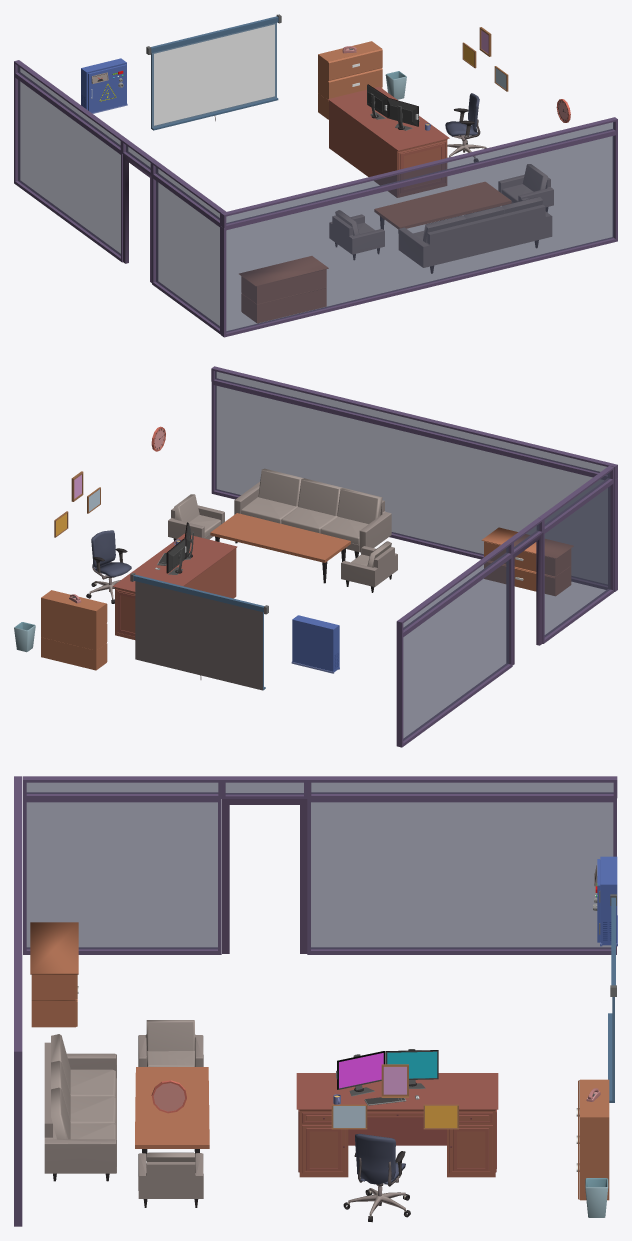
Rendered from Office.fbx.
3 renders of one model, top to bottom at view 1: azimuth 30°, elevation 25°; view 2: azimuth 150°, elevation 25°; view 3: azimuth 270°, elevation 25°, orthographic. The views are drawn at different scales.
Visible parts, largest first — view 1: Wall, Wall_Outline, Projector_Screen, Office_Table, Couch, Cabnet, Table, Cabnet.001, Power_Supply, Arm_Chair, Arm_Chair.001, Chair (+5 smaller); view 2: Wall, Wall_Outline, Projector_Screen, Couch, Office_Table, Cabnet.001, Table, Cabnet, Power_Supply, Arm_Chair, Arm_Chair.001, Chair (+4 smaller); view 3: Wall, Wall_Outline, Office_Table, Couch, Table, Cabnet, Cabnet.001, Arm_Chair.001, Chair, Door.018, Arm_Chair, Frame (+6 smaller).
Part boxes in pixels (x1,y1,x2,y2): Wall: (17, 66, 614, 332); Wall_Outline: (14, 60, 617, 337); Projector_Screen: (146, 14, 281, 130); Office_Table: (328, 86, 449, 197); Couch: (399, 197, 551, 273); Cabnet: (239, 256, 328, 323); Table: (374, 182, 511, 229); Cabnet.001: (318, 41, 382, 119); Power_Supply: (81, 58, 127, 113); Arm_Chair: (329, 210, 384, 259); Arm_Chair.001: (498, 164, 553, 211); Chair: (445, 93, 486, 162); Wall: (215, 371, 610, 740); Wall_Outline: (211, 366, 617, 747); Projector_Screen: (130, 572, 268, 690); Couch: (234, 468, 391, 558); Office_Table: (112, 533, 237, 639); Cabnet.001: (41, 590, 107, 670); Table: (210, 513, 350, 583); Cabnet: (481, 527, 573, 595); Power_Supply: (291, 615, 339, 673); Arm_Chair: (341, 541, 397, 592); Arm_Chair.001: (168, 494, 224, 540); Chair: (86, 530, 131, 603); Wall: (26, 782, 613, 949); Wall_Outline: (14, 776, 617, 1226); Office_Table: (296, 1073, 498, 1177); Couch: (44, 1034, 116, 1181); Table: (135, 1067, 209, 1160); Cabnet: (30, 922, 78, 1027); Cabnet.001: (576, 1079, 609, 1200); Arm_Chair.001: (138, 1152, 203, 1207); Chair: (343, 1133, 410, 1222); Door.018: (222, 799, 307, 953); Arm_Chair: (138, 1020, 203, 1066); Frame: (331, 1064, 458, 1129).
Bounding box in the file's own units: 501 × 149 × 463.
Materials: 2 (1 with a texture image).
